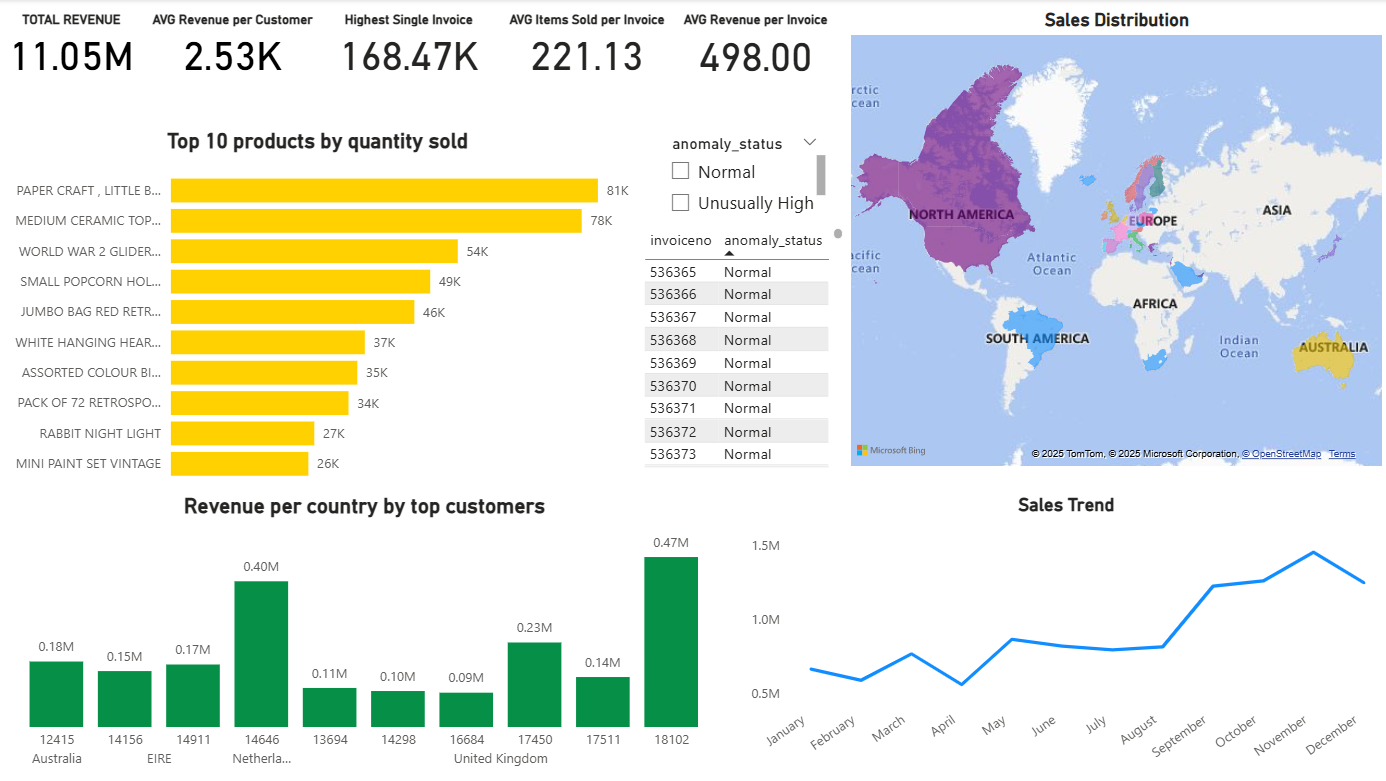

Layout of this report page (visuals, bound fields, positions):
{"tool":"powerbi","page":{"name":"Page 1","canvas":[1280,720],"ordinal":0},"visuals":[{"type":"card","title":"TOTAL REVENUE","fields":{"Values":["Sum(public v_total_revenue.total_revenue)","select"]},"box":[0,12,136.6,62.3],"z":0},{"type":"card","title":"AVG Revenue per Customer","fields":{"Values":["Avg(public v_avg_revenue_per_customer.avg_sales)"]},"box":[136.7,11.5,159.7,63.2],"z":1000},{"type":"columnChart","title":"Revenue per country by top customers ","fields":{"Y":["Sum(public v_top_customers_revenue.total_sales)"],"Category":["public v_top_customers_revenue.country","public v_top_customers_revenue.customerid"]},"box":[0,454.9,675.4,265.3],"z":2000},{"type":"barChart","title":"Top 10 products by quantity sold","fields":{"Y":["Sum(public v_top10_products_quantity.total_quantity_sold)"],"Category":["public v_top10_products_quantity.description"]},"box":[0,119.5,589.3,335.4],"z":3000},{"type":"lineChart","title":"Sales Trend","fields":{"Y":["Sum(public v_sales_trend.total_sales)"],"Category":["public v_sales_trend.sales_date.Variation.Date Hierarchy.Month"]},"box":[685.8,454.9,593.9,265.3],"z":4000},{"type":"tableEx","fields":{"Values":["public v_unusual_invoices.invoiceno","public v_unusual_invoices.anomaly_status"]},"box":[589.7,206.1,193,230.1],"z":5000},{"type":"slicer","fields":{"Values":["public v_unusual_invoices.anomaly_status"]},"box":[607.6,119.9,158.2,86.3],"z":6000},{"type":"card","title":"Highest Single Invoice","fields":{"Values":["Sum(public v_highest_single_invoice_amount.highest_single_invoice_amount)"]},"box":[296.4,11.5,164.3,63.2],"z":7000},{"type":"card","title":"AVG Revenue per Invoice","fields":{"Values":["Avg(public v_avg_revenue.avg_revenue_per_invoice)"]},"box":[623.7,11.5,147,64.3],"z":8000},{"type":"card","title":"AVG Items Sold per Invoice","fields":{"Values":["Sum(public v_avg_items_per_invoice.avg_items_per_invoice)"]},"box":[460.6,11.5,163.1,63.2],"z":9000},{"type":"filledMap","title":"Sales Distribution","fields":{"Category":["public v_customer_distribution_country.country"],"Series":["public v_customer_distribution_country.no_of_customers"]},"box":[780.2,9.5,498.5,425.3],"z":10000}]}

Visuals, with their boxes in screenshot pixels (x1, y1, x2, y2), scaled from the page's 1280x720 canvas onto the 1386x781 screenshot:
"TOTAL REVENUE" card: crop(0, 13, 148, 81)
"AVG Revenue per Customer" card: crop(148, 12, 321, 81)
"Revenue per country by top customers " columnChart: crop(0, 493, 731, 780)
"Top 10 products by quantity sold" barChart: crop(0, 130, 638, 493)
"Sales Trend" lineChart: crop(743, 493, 1385, 780)
tableEx - public v_unusual_invoices.invoiceno x public v_unusual_invoices.anomaly_status: crop(639, 224, 848, 473)
slicer - public v_unusual_invoices.anomaly_status: crop(658, 130, 829, 224)
"Highest Single Invoice" card: crop(321, 12, 499, 81)
"AVG Revenue per Invoice" card: crop(675, 12, 835, 82)
"AVG Items Sold per Invoice" card: crop(499, 12, 675, 81)
"Sales Distribution" filledMap: crop(845, 10, 1385, 472)
